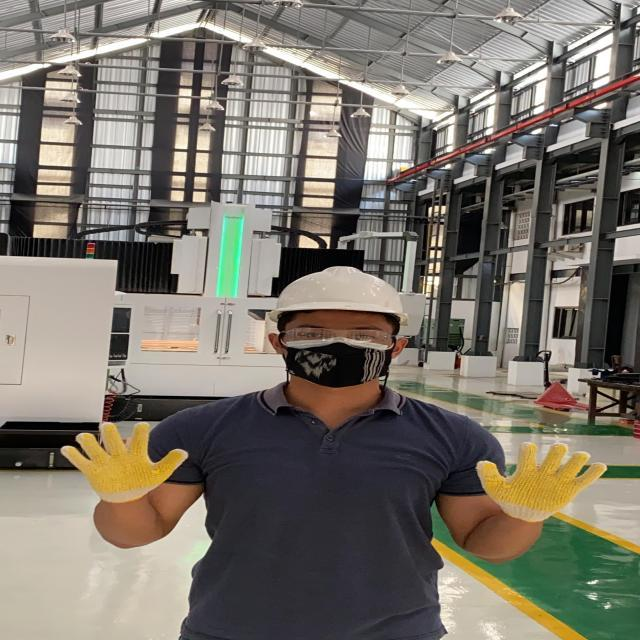glasses: (272, 323, 404, 349)
